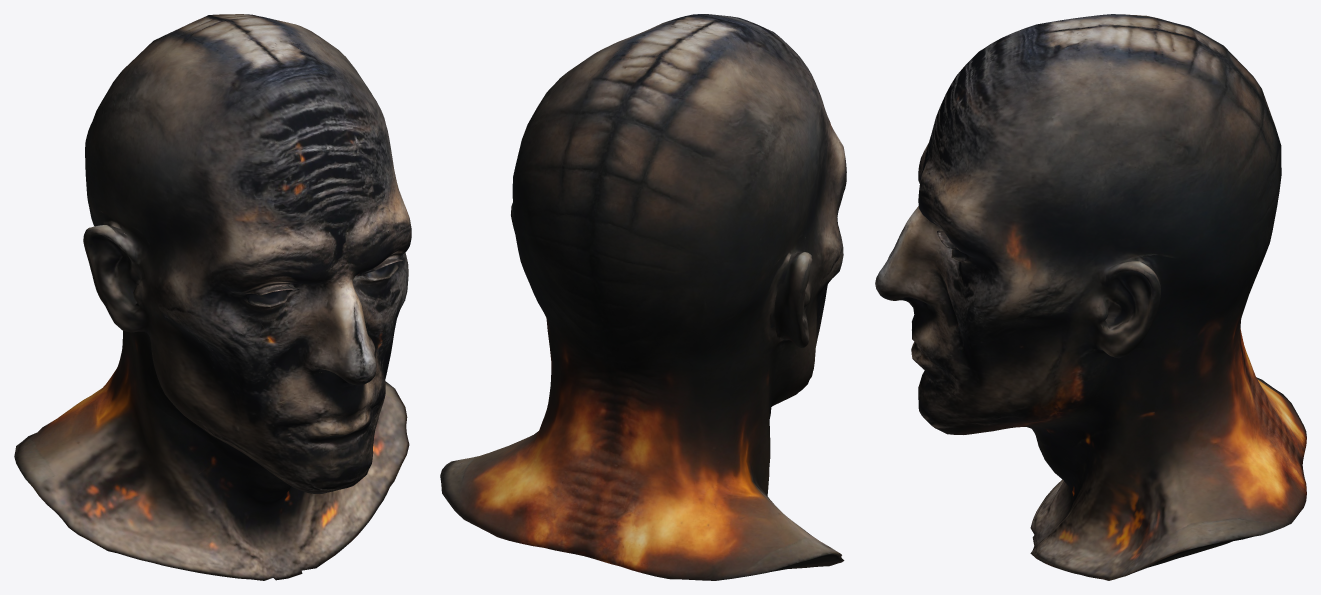
Rendered from burned_human_face__0217152725_texture.glb.
The picture shows the model from 3 angles, left to right: view 1: azimuth 30°, elevation 25°; view 2: azimuth 150°, elevation 25°; view 3: azimuth 270°, elevation 25°; orthographic projection. The views are drawn at different scales.
Size of the model in its own units: 1.49 by 2 by 1.5.
Materials: 1 (1 with a texture image).
